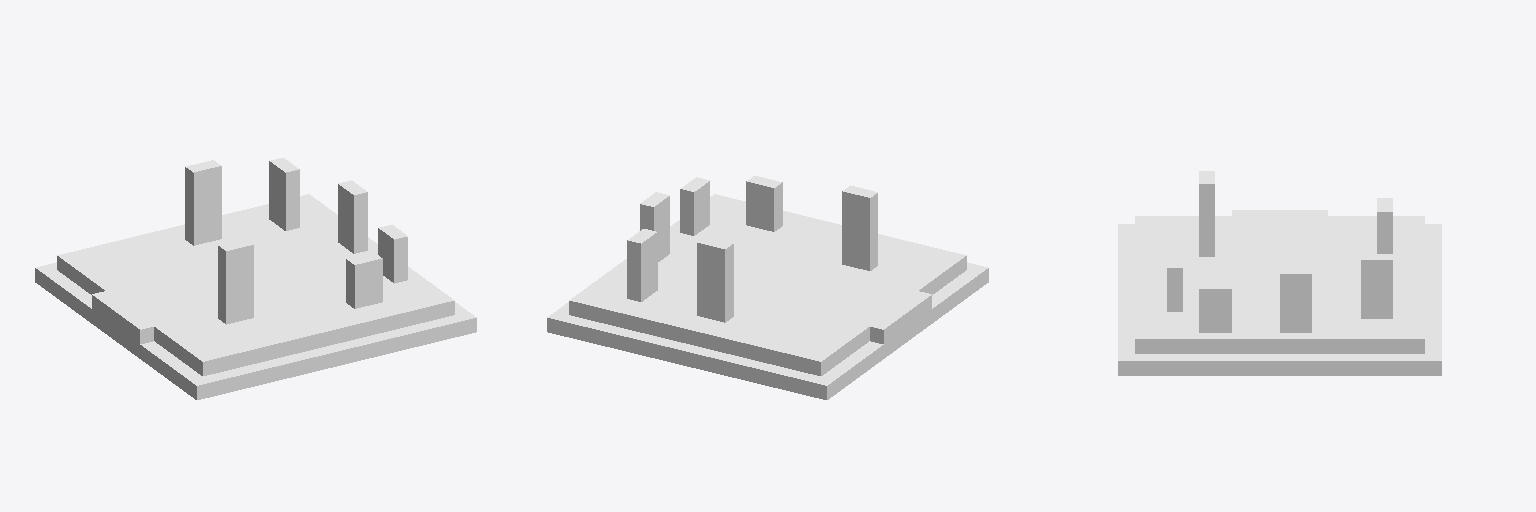
Rendered from onewayrocks.obj.
3 views of the same model, side by side, from view 1: azimuth 30°, elevation 25°; view 2: azimuth 150°, elevation 25°; view 3: azimuth 270°, elevation 25° (orthographic).
Size of the model in its own units: 20 by 7 by 20.